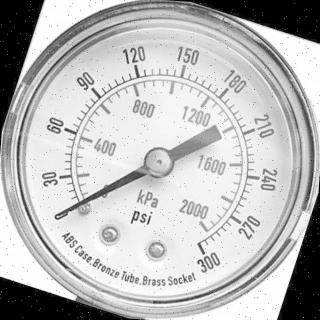gauge: (0, 0, 320, 320), (165, 221, 233, 279), (38, 182, 96, 240), (142, 145, 176, 179), (52, 204, 70, 222)
